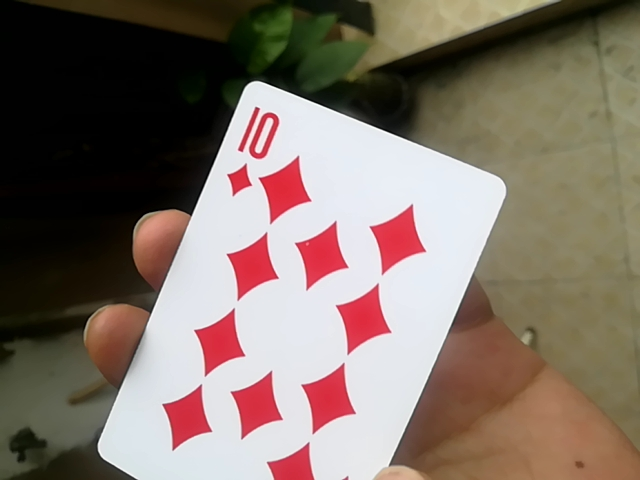fk 10: (89, 84, 509, 477)
